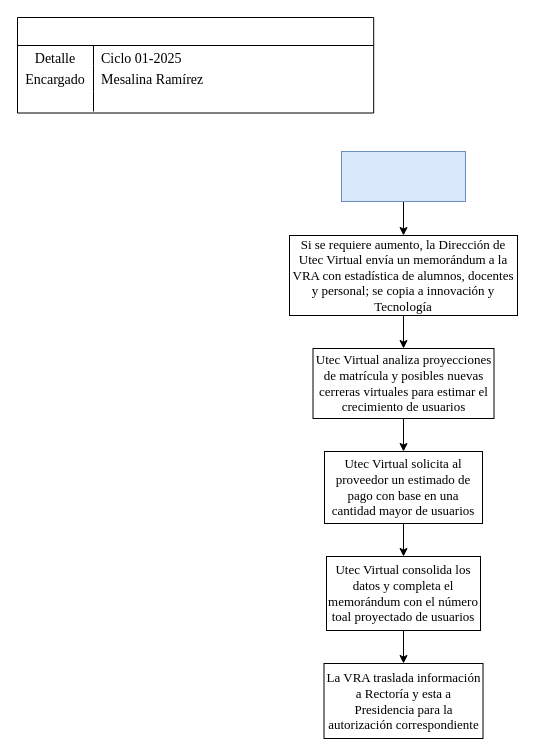
Some shapes in this 535 by 756 pixel diagram are drawn without their labels. Each missing label, with the box of its shape:
Anualidad de plataforma tecnológica carreras virtuales: (16, 16, 374, 113)
Solictud de aumento y proyecciones: (340, 150, 466, 202)
